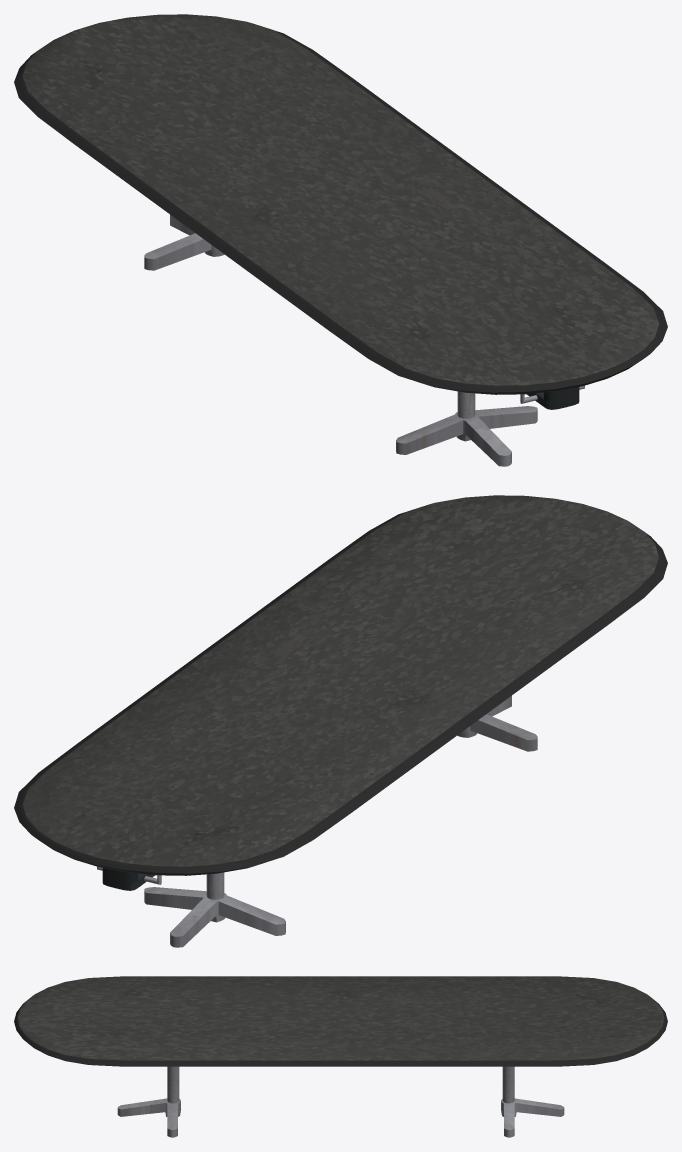
File: table.fbx
The picture shows the model from 3 angles, top to bottom: view 1: azimuth 30°, elevation 25°; view 2: azimuth 150°, elevation 25°; view 3: azimuth 270°, elevation 25°; orthographic projection. The views are drawn at different scales.
Visible parts, largest first — view 1: Meeting_Table; view 2: Meeting_Table; view 3: Meeting_Table.
Part boxes in pixels (left/top/right/bottom): Meeting_Table: left=14, top=14, right=667, bottom=466; Meeting_Table: left=14, top=495, right=667, bottom=947; Meeting_Table: left=14, top=976, right=667, bottom=1137.
Bounding box in the file's own units: 4.11 × 2.05 × 12.58.
1 material, 1 textured.
